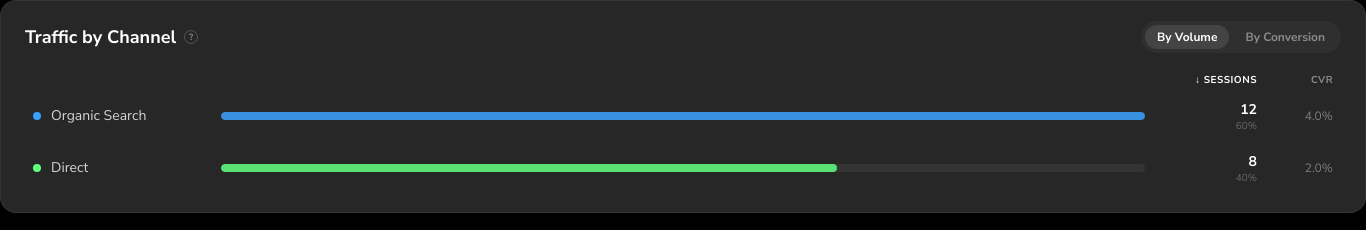
Test: the conversion tab renders an empty state when every channel falls under the >=20 sessions floor
The width and height of the screenshot is (1366, 230).
Expected: the heading "Traffic by Channel" is shown, [25, 23, 176, 51]
Expected: the text "Organic Search" is shown, [51, 106, 146, 126]
Click the button "By Conversion": (1285, 37) [1233, 25, 1337, 49]
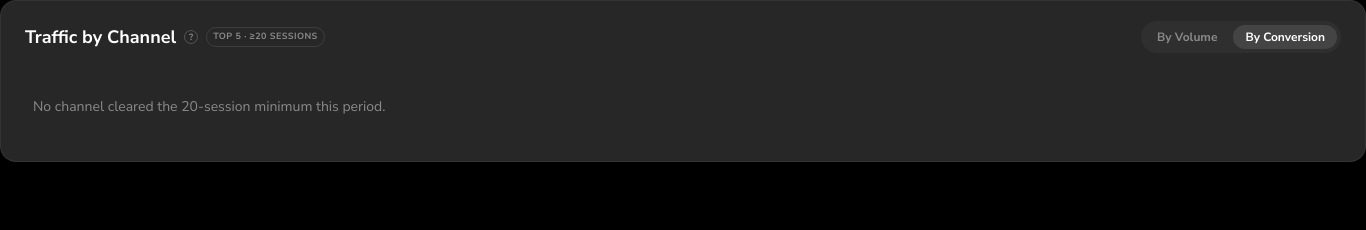
Expected: the text "No channel cleared the 20-session minimum this period." is shown, [33, 97, 385, 116]
